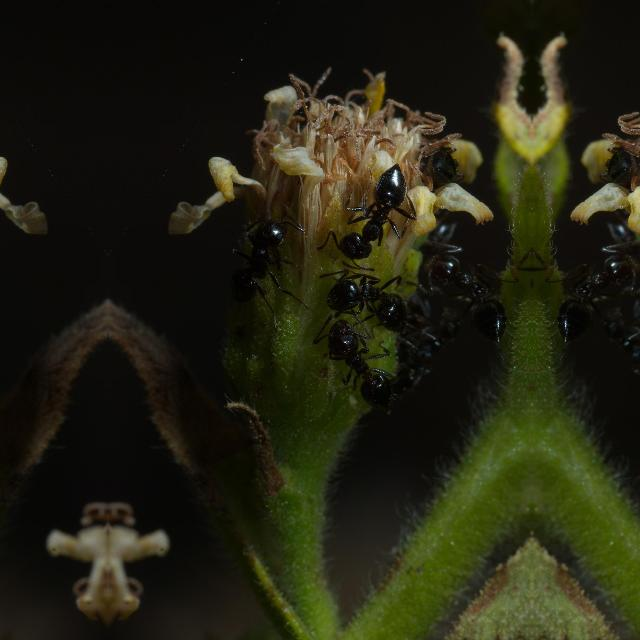Crematogaster: (232, 200, 310, 314), (337, 162, 419, 270), (329, 328, 399, 418), (437, 255, 505, 341), (558, 255, 626, 341), (342, 275, 406, 333)
